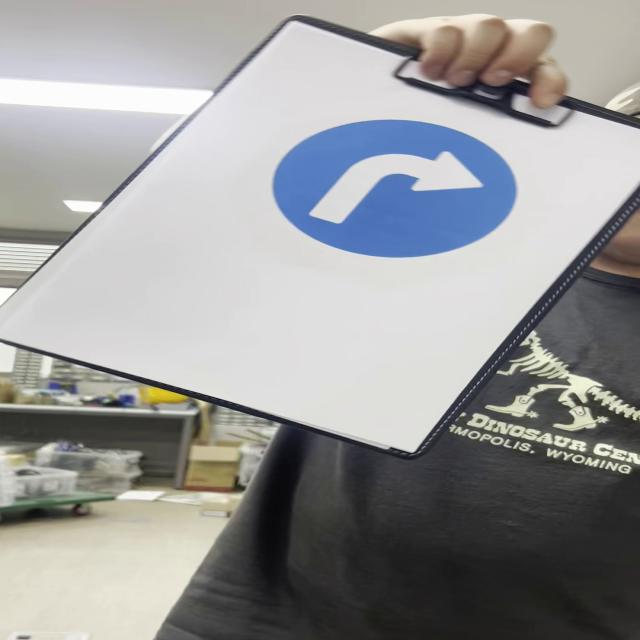right: (278, 121, 519, 258)
